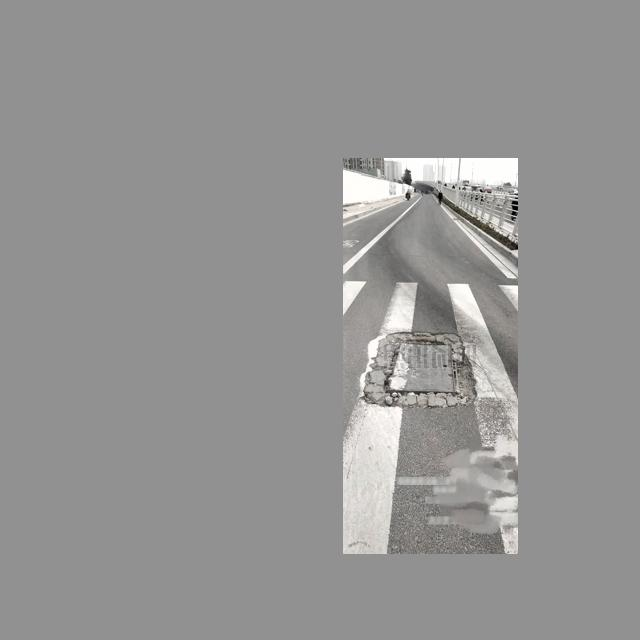circle: (273, 436, 451, 554)
